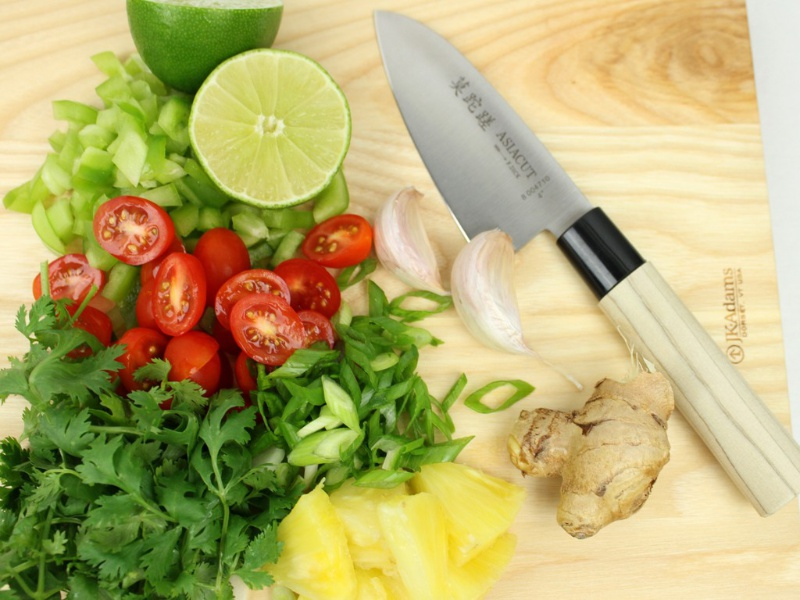knife: (371, 6, 800, 522)
